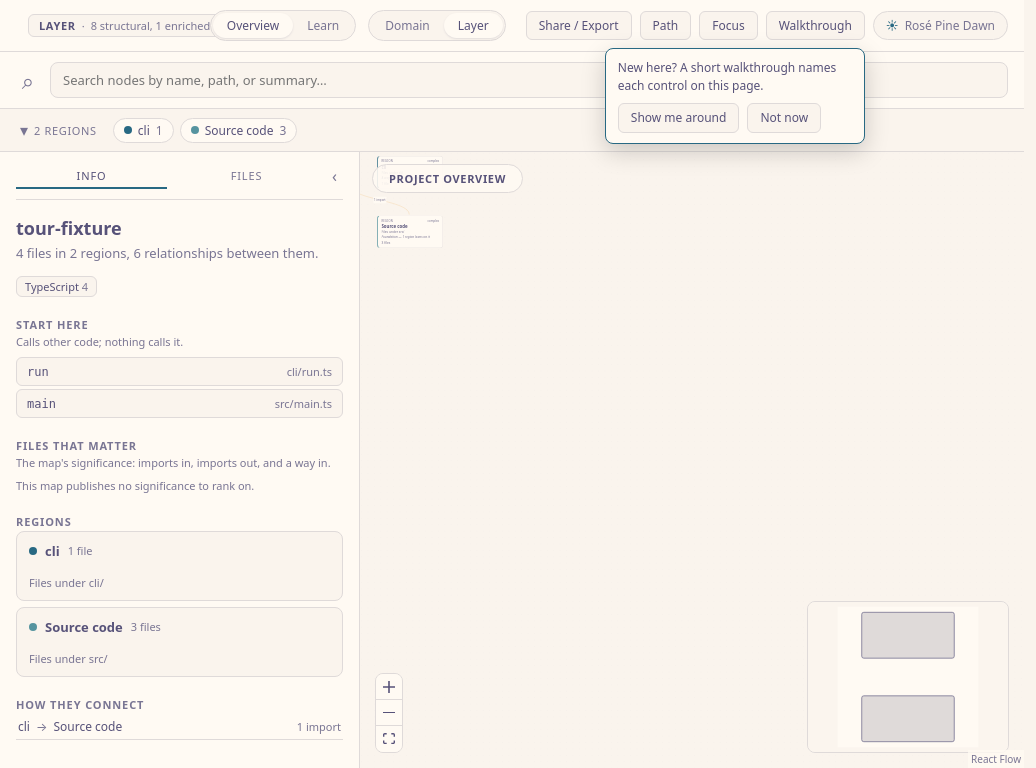
Test: the codebase tour › stops at both ends of the walk
Click the radio button labelled "Learn" at [323, 26], box [293,13,353,38]
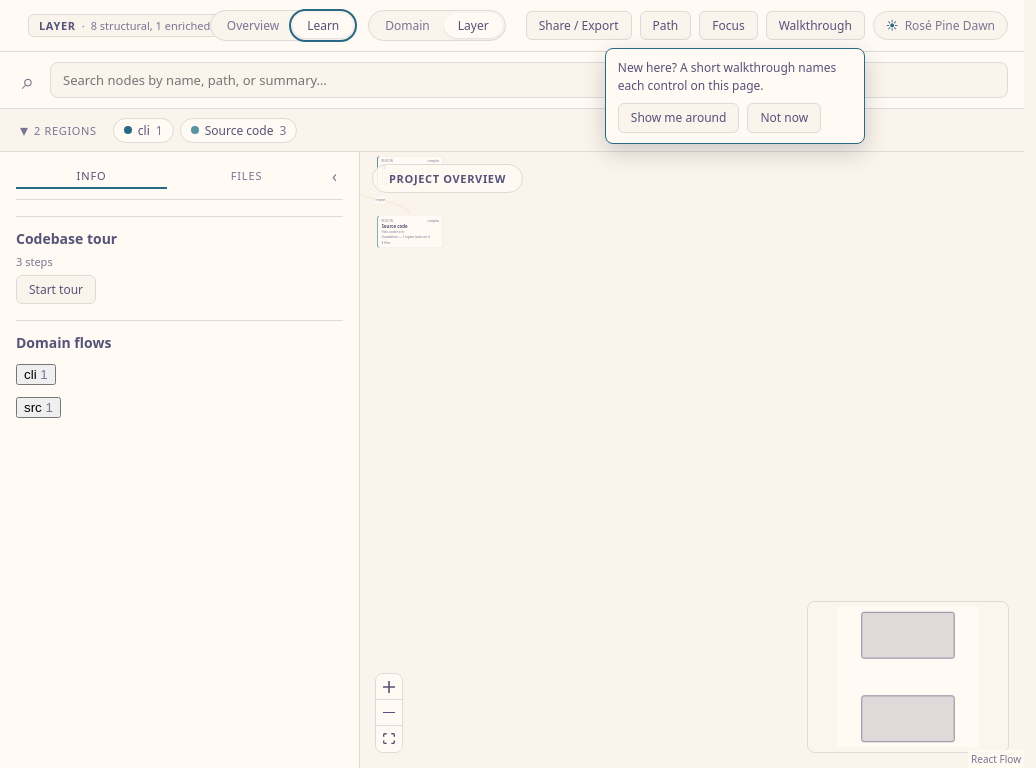
Click the button "Start tour" at [56, 290], box [16,275,96,304]
(page scrolled)
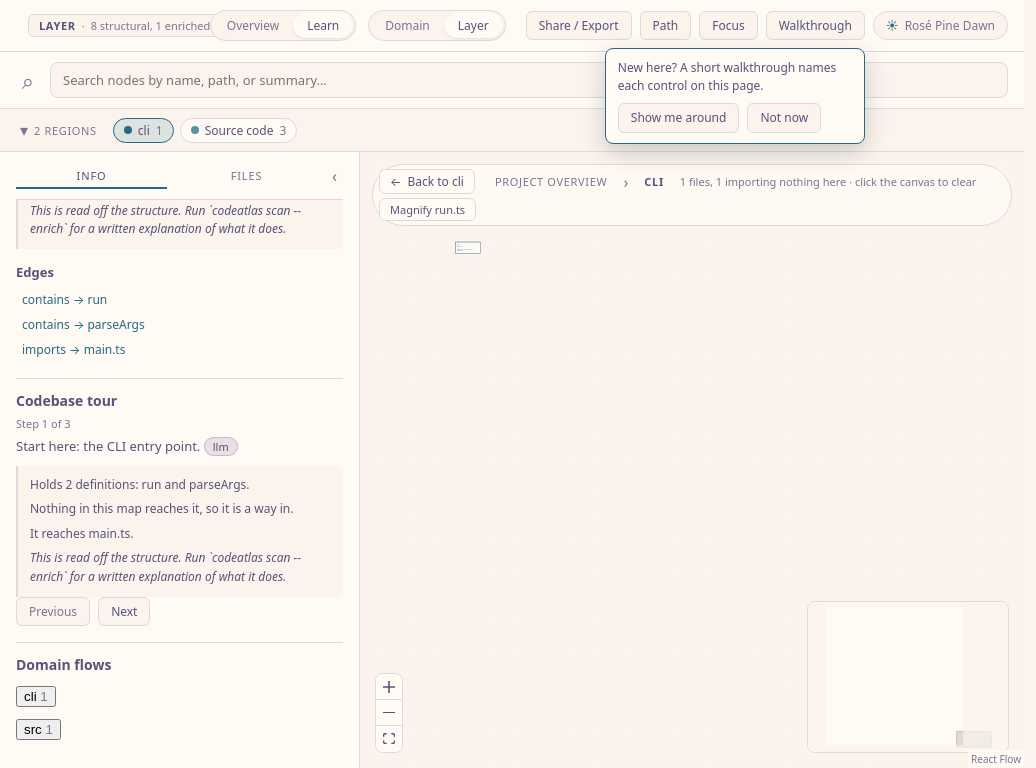
Result: the button "Previous" is disabled at [16,597,90,626]
Click the button "Next" at [124, 611], box [98,597,150,626]
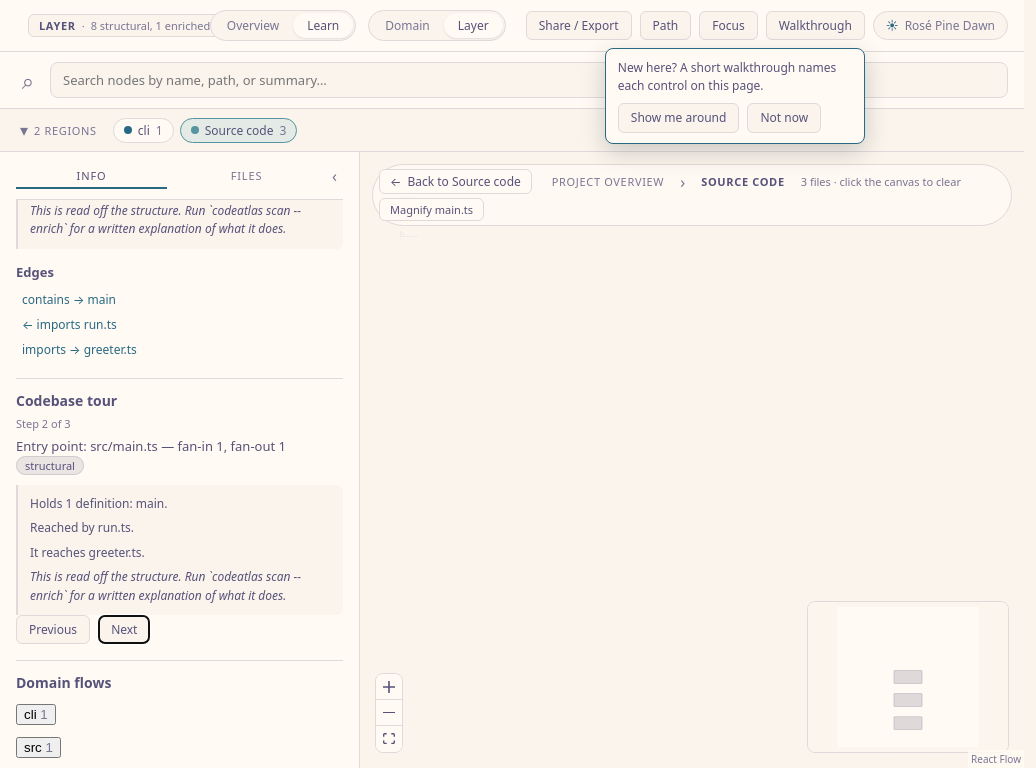
Click the button "Next" at [124, 630], box [98,616,150,644]
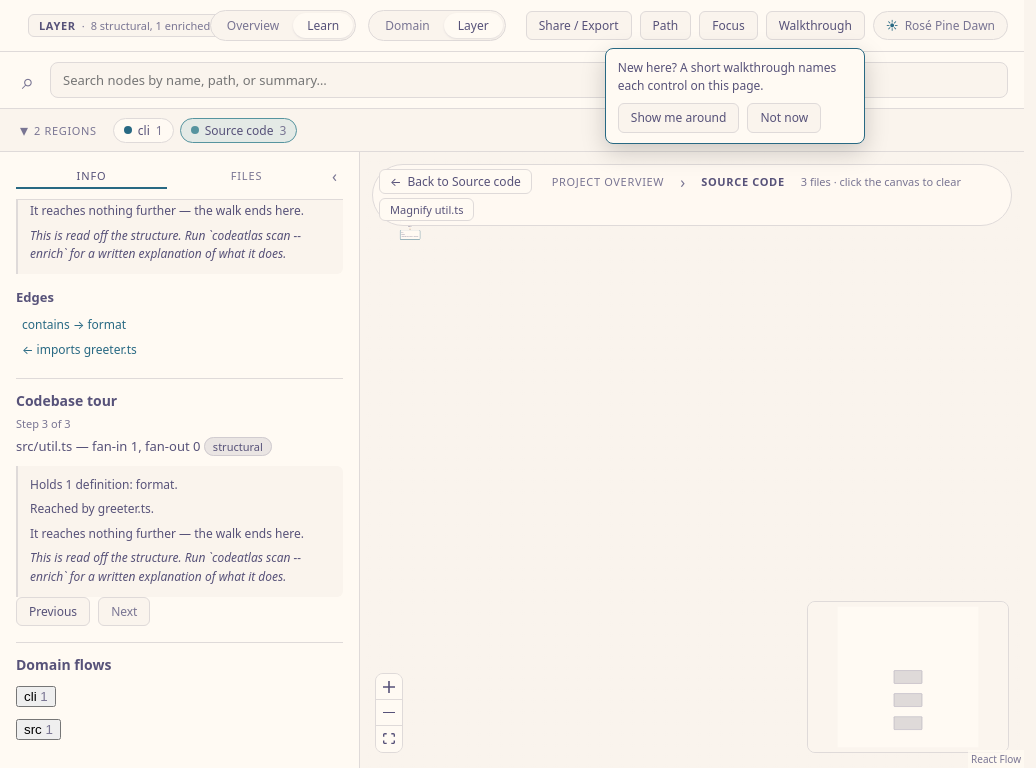
Result: the text "Step 3 of 3" is shown at [16,416,71,431]
Result: the button "Next" is disabled at [98,597,150,626]
